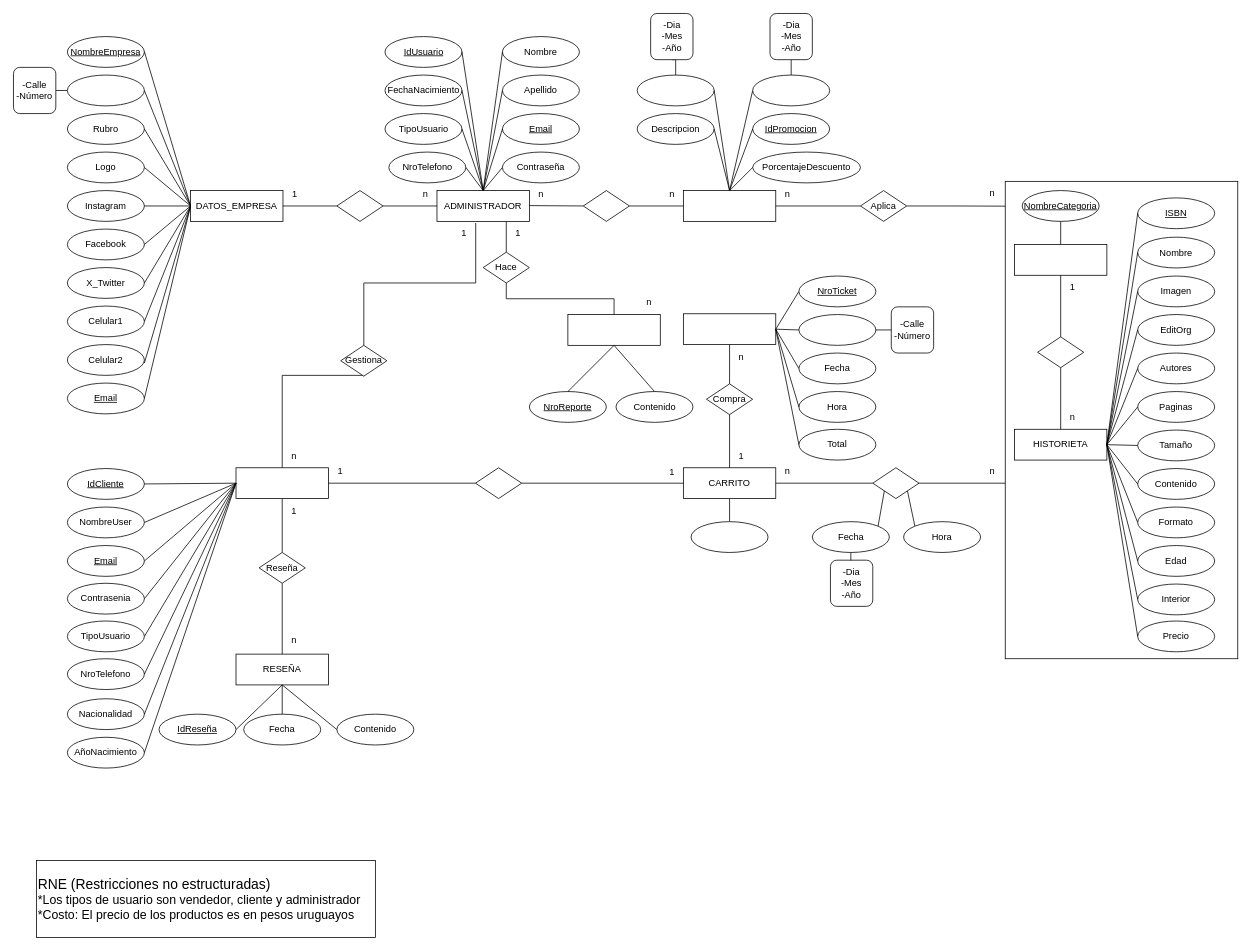
Image size: 1251x951. Some labels were removed from this diagram. Each missing label, with the centre of its shape:
"Agrega" goes at [895,483].
"Carga" goes at [359,205].
"CATEGORÍA" goes at [1060,259].
"CLIENTE" goes at [281,483].
"Crea" goes at [606,205].
"Direccion" goes at [105,90].
"DirEnvio" goes at [837,329].
"FechaFin" goes at [791,90].
"FechaInicio" goes at [675,90].
"IdCarrito" goes at [729,536].
"Pertenece" goes at [1060,352].
"PROMOCION" goes at [729,205].
"REPORTE" goes at [613,329].
"TICKET" goes at [729,329].
"Tiene" goes at [498,483].
